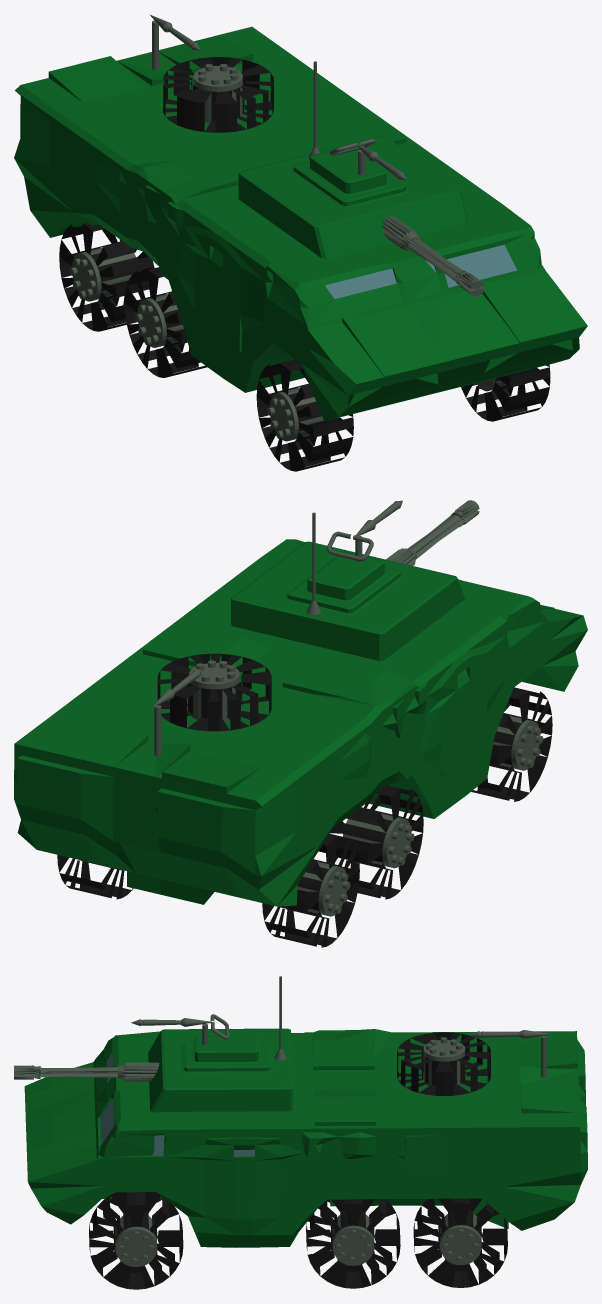
Rendered from Mech. Inf..glb.
3 views of the same model, one above another, from view 1: azimuth 30°, elevation 25°; view 2: azimuth 150°, elevation 25°; view 3: azimuth 270°, elevation 25° (orthographic). The views are drawn at different scales.
Visible parts, largest first — view 1: Cylinder.003; view 2: Cylinder.003; view 3: Cylinder.003.
Boxes of the visible parts, bbox=[...] form: Cylinder.003: bbox=[14, 14, 587, 471]; Cylinder.003: bbox=[14, 500, 587, 947]; Cylinder.003: bbox=[14, 976, 587, 1289].
Size of the model in its own units: 1.26 by 1.47 by 2.89.
